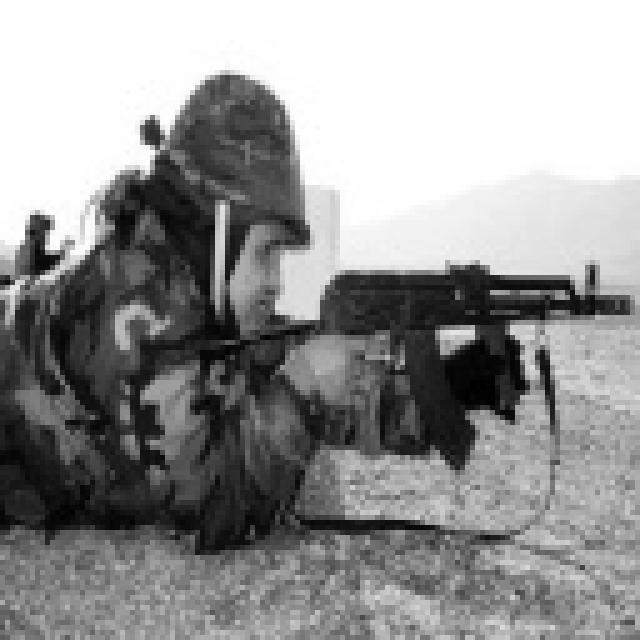Rifle: (105, 220, 640, 410)
